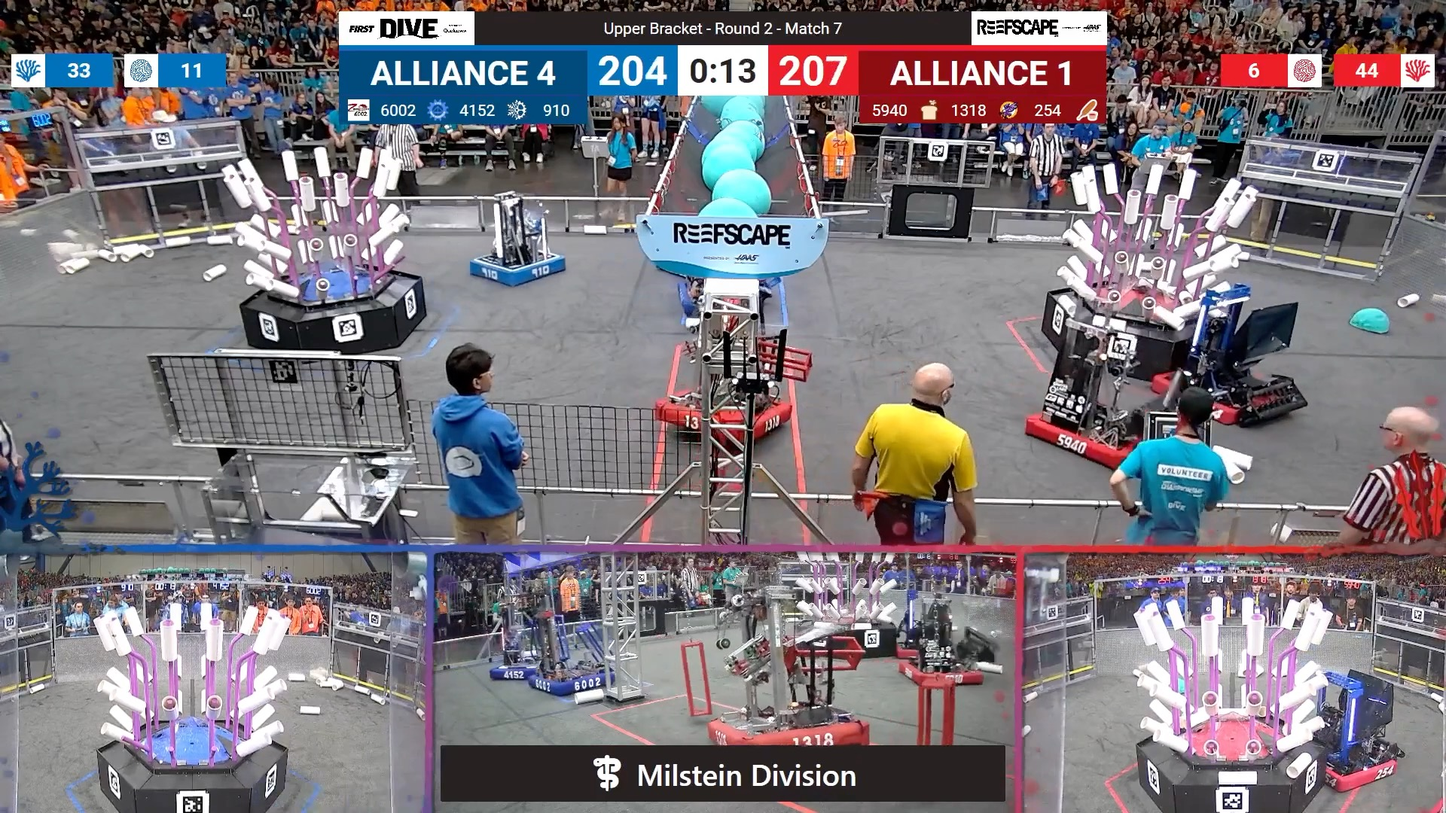bumpers: (1149, 366, 1297, 432), (1012, 405, 1146, 473), (665, 384, 809, 440), (707, 712, 874, 749), (1308, 745, 1403, 794), (457, 251, 572, 291), (518, 667, 616, 697), (894, 659, 982, 687), (483, 662, 549, 684)
